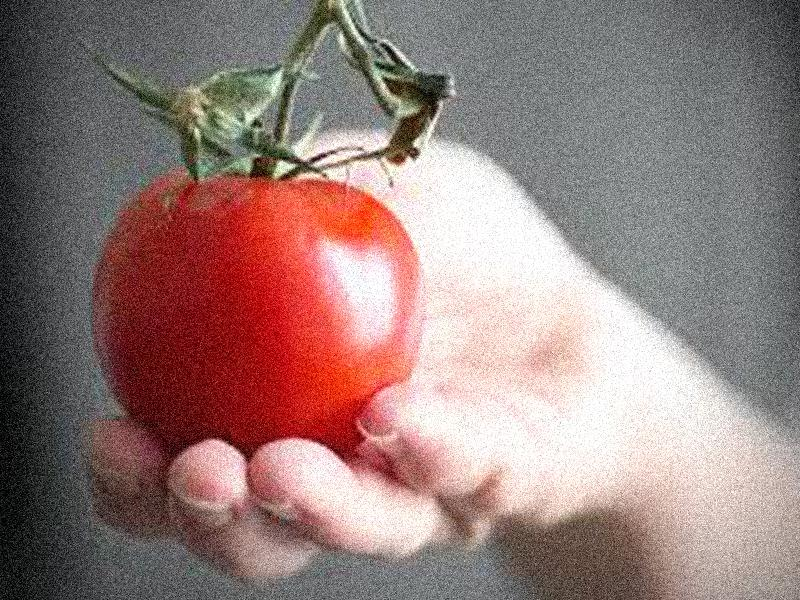Tomato: (90, 164, 422, 456)
